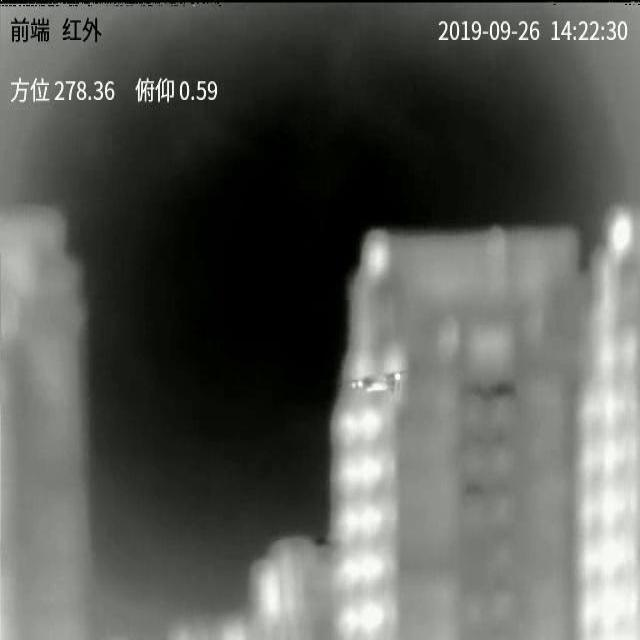drone: (350, 370, 406, 392)
